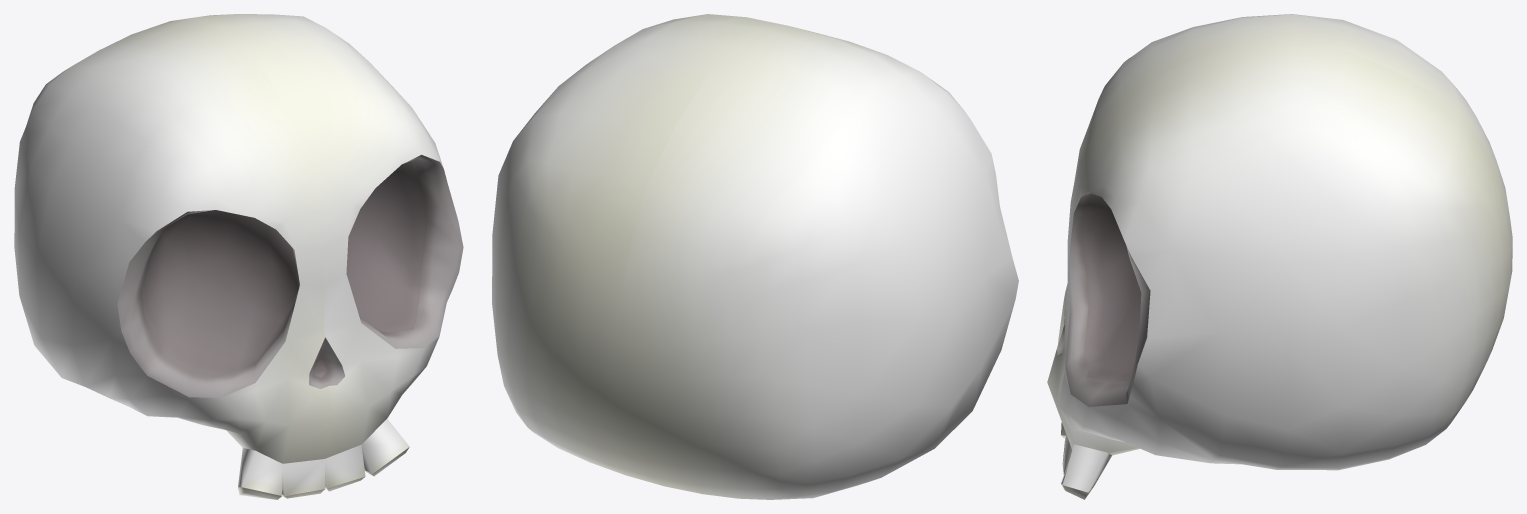
Rendered from Skull.fbx.
3 renders of one model, left to right at view 1: azimuth 30°, elevation 25°; view 2: azimuth 150°, elevation 25°; view 3: azimuth 270°, elevation 25°, orthographic. The views are drawn at different scales.
Parts seen in each view (by area): view 1: Skull; view 2: Skull; view 3: Skull.
Part boxes in pixels (x1,y1,x2,y2): Skull: (14, 14, 463, 499); Skull: (492, 14, 1018, 499); Skull: (1047, 14, 1512, 499).
Bounding box in the file's own units: 59.17 × 59.11 × 58.3.
